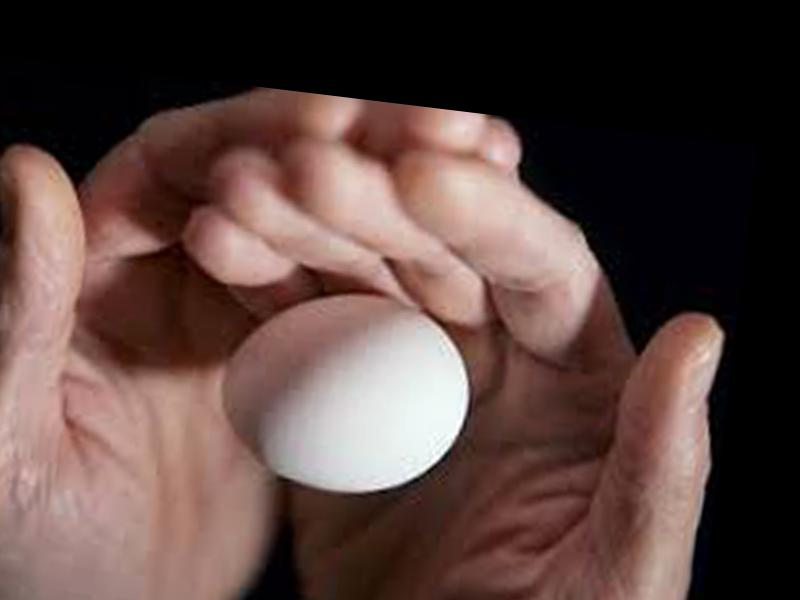Eggs: (213, 280, 480, 507)
